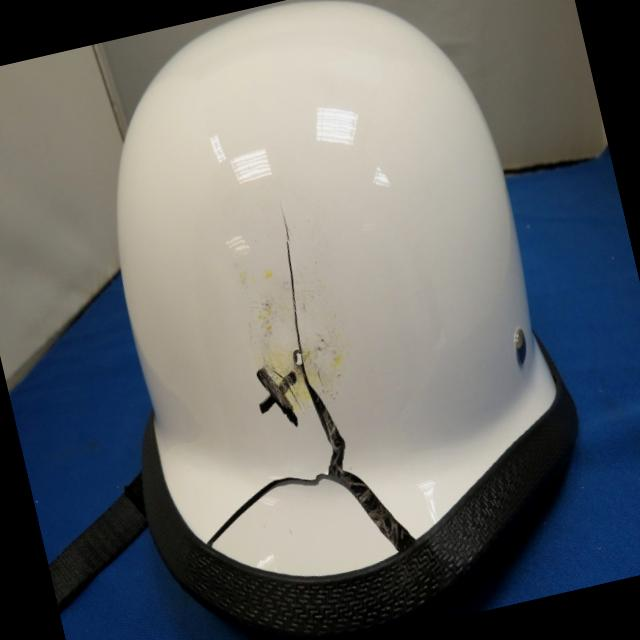BrokenHelmet: (138, 194, 428, 595)
